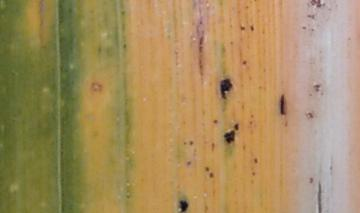tarspot: (220, 79, 233, 99), (224, 130, 235, 143), (279, 93, 285, 116), (179, 200, 189, 213), (184, 158, 192, 166), (233, 122, 240, 131), (211, 118, 219, 125), (249, 23, 255, 32), (241, 59, 248, 66), (240, 24, 246, 32), (253, 156, 259, 164), (204, 165, 210, 172), (189, 139, 194, 146), (209, 172, 214, 178)
